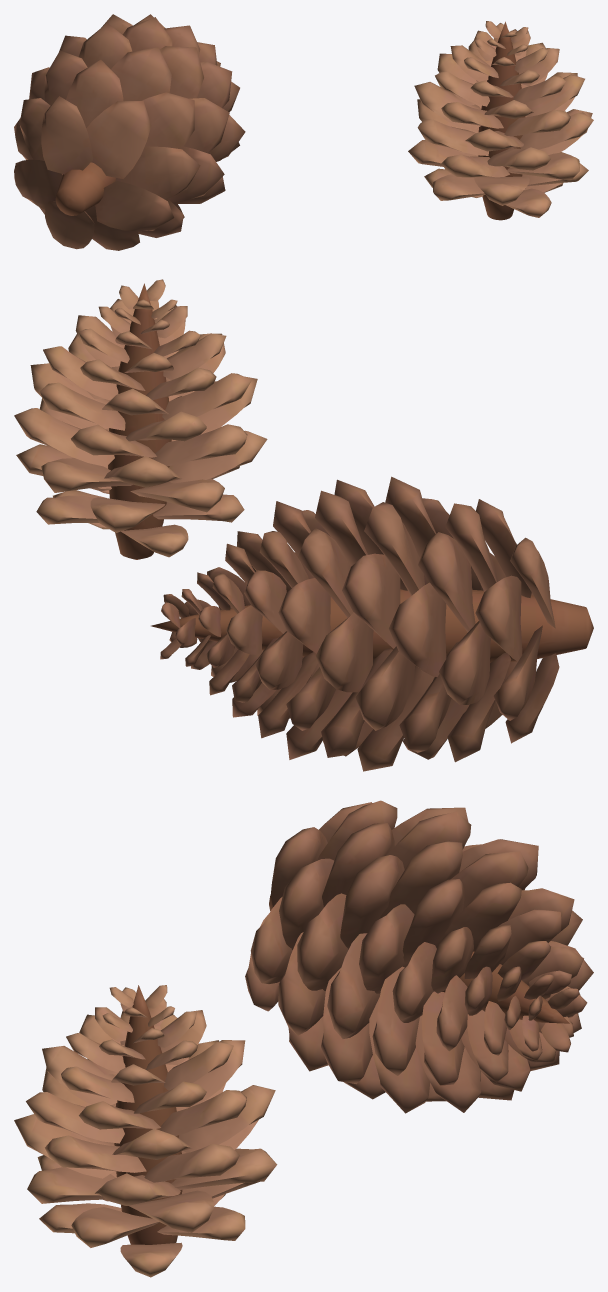
Rendered from pina.glb.
3 views of the same model, one above another, from view 1: azimuth 30°, elevation 25°; view 2: azimuth 150°, elevation 25°; view 3: azimuth 270°, elevation 25° (orthographic). The views are drawn at different scales.
Parts seen in each view (by area): view 1: pine-cone_body; view 2: pine-cone_body; view 3: pine-cone_body.
Part boxes in pixels (x1,y1,x2,y2): pine-cone_body: (14,14,593,250); pine-cone_body: (14,279,593,771); pine-cone_body: (14,800,593,1277).
Bounding box in the file's own units: 0.1778 × 0.0729 × 0.1348.
Materials: 1 (1 with a texture image).
